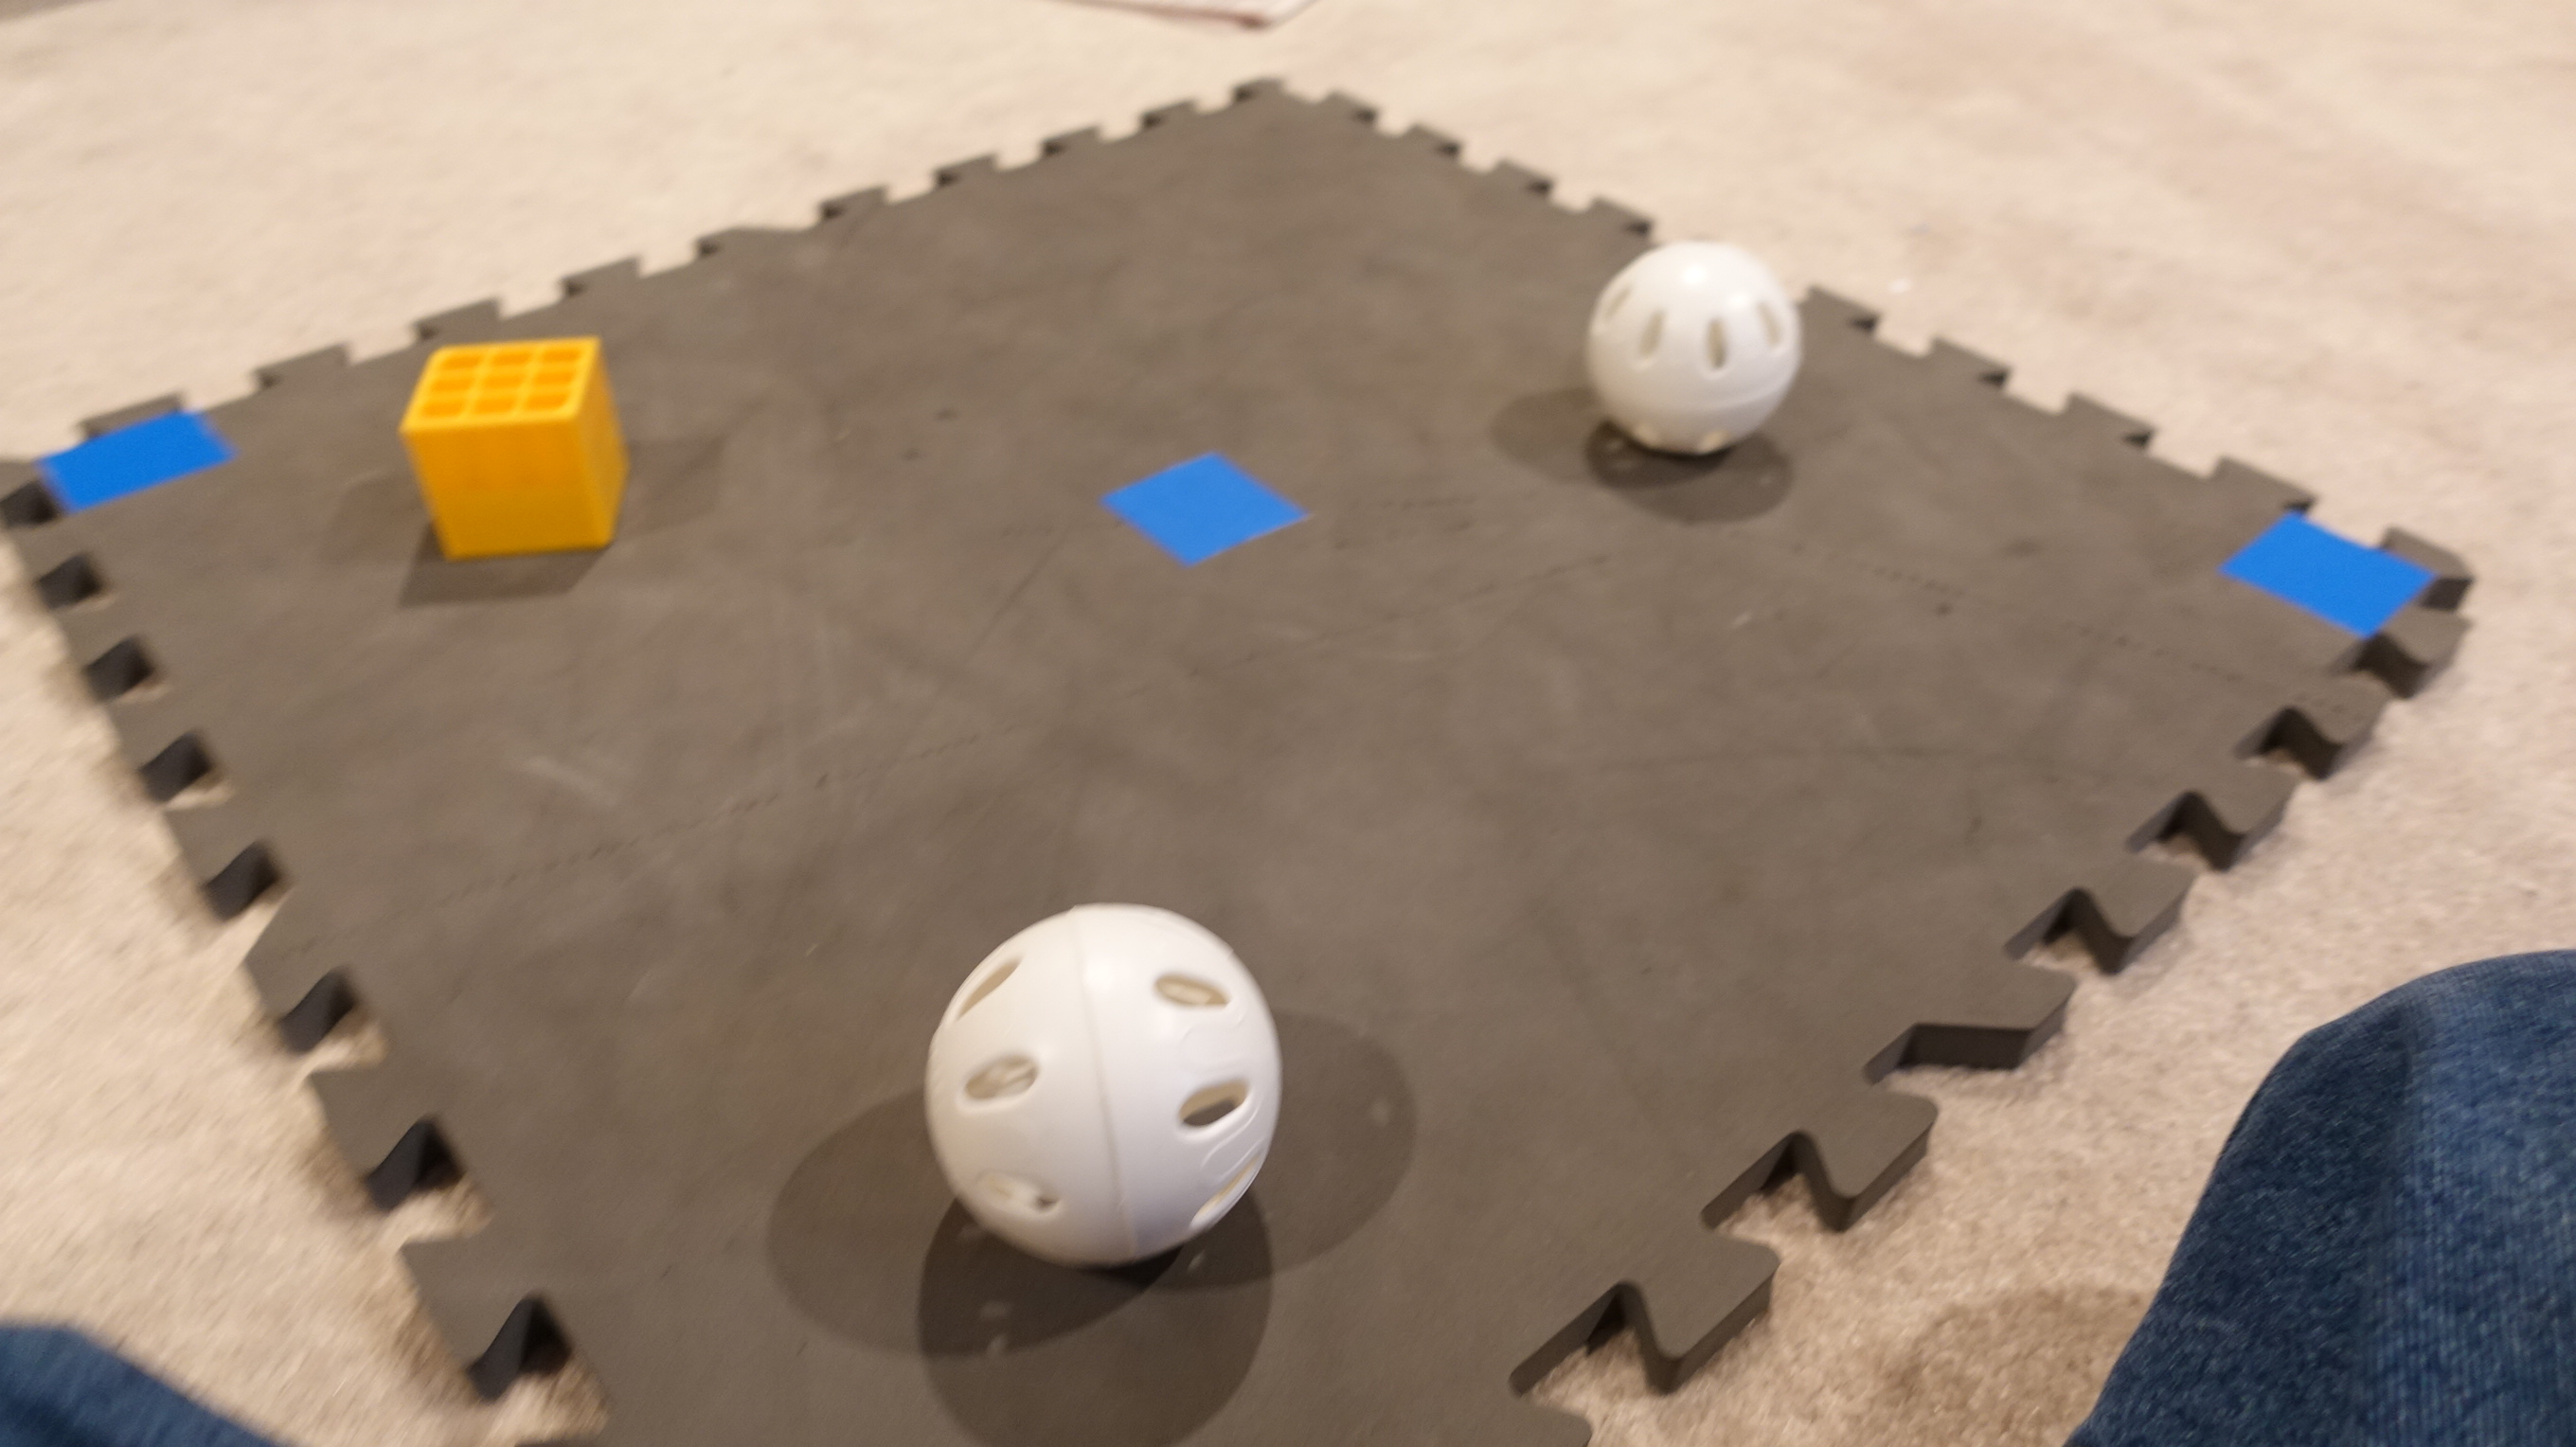gold: (384, 327, 648, 564)
silver: (913, 890, 1299, 1265), (1582, 235, 1819, 460)
